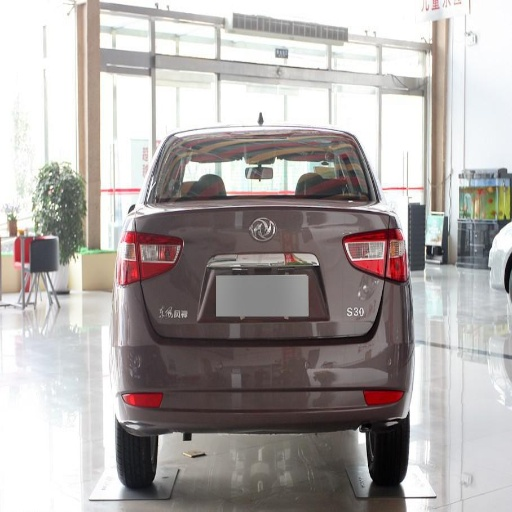back_bumper: (115, 281, 412, 490)
tailgate: (313, 285, 378, 342)
trunk: (128, 198, 387, 386)
